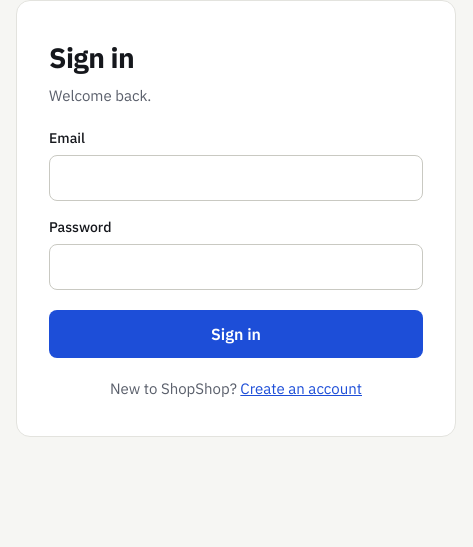
Scenario: LoginPage › keeps the email after a wrong password
Type "alex@example.com" into the field labelled "Email" at (236, 178), box top-left (49, 154), bottom-right (423, 200)
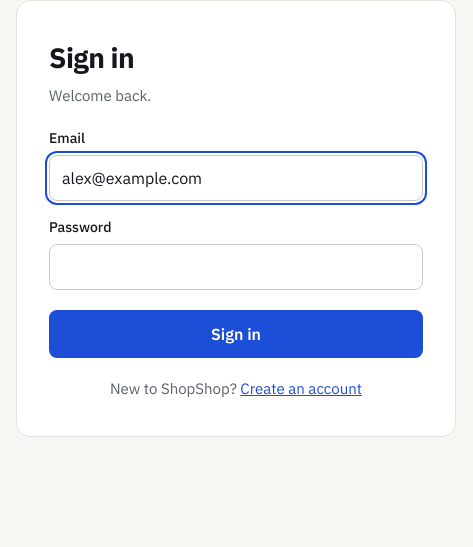
Type "wrong" into the password field labelled "Password" at (236, 266), box top-left (49, 244), bottom-right (423, 290)
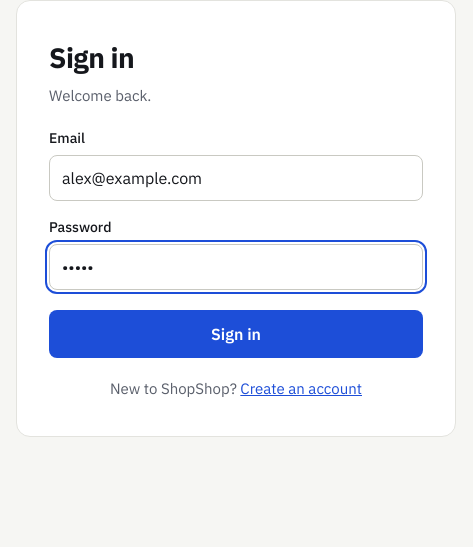
Click the button "Sign in" at (236, 334), box top-left (49, 310), bottom-right (423, 358)
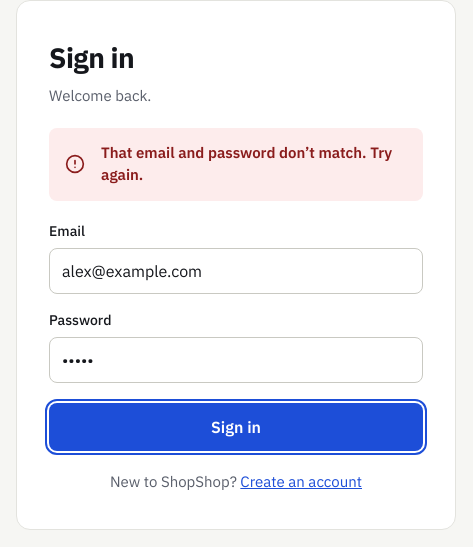
Expected: the message reads "That email and password don’t match. Try again.", top-left (101, 142), bottom-right (392, 184)
